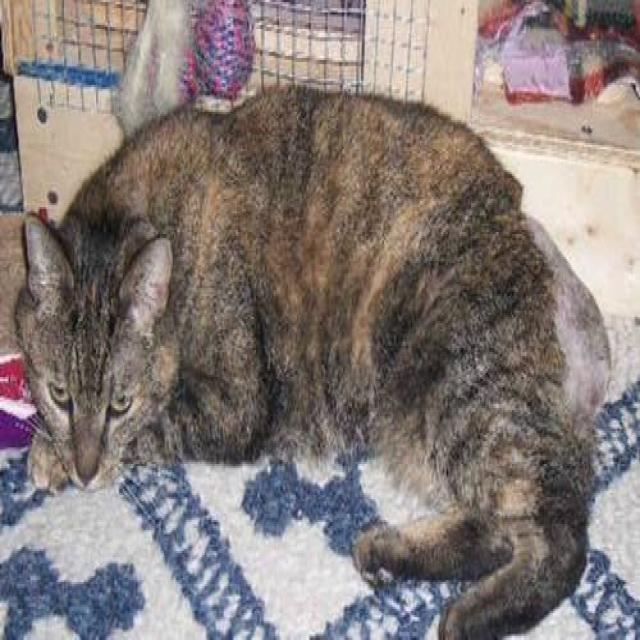cat: (13, 81, 612, 638)
